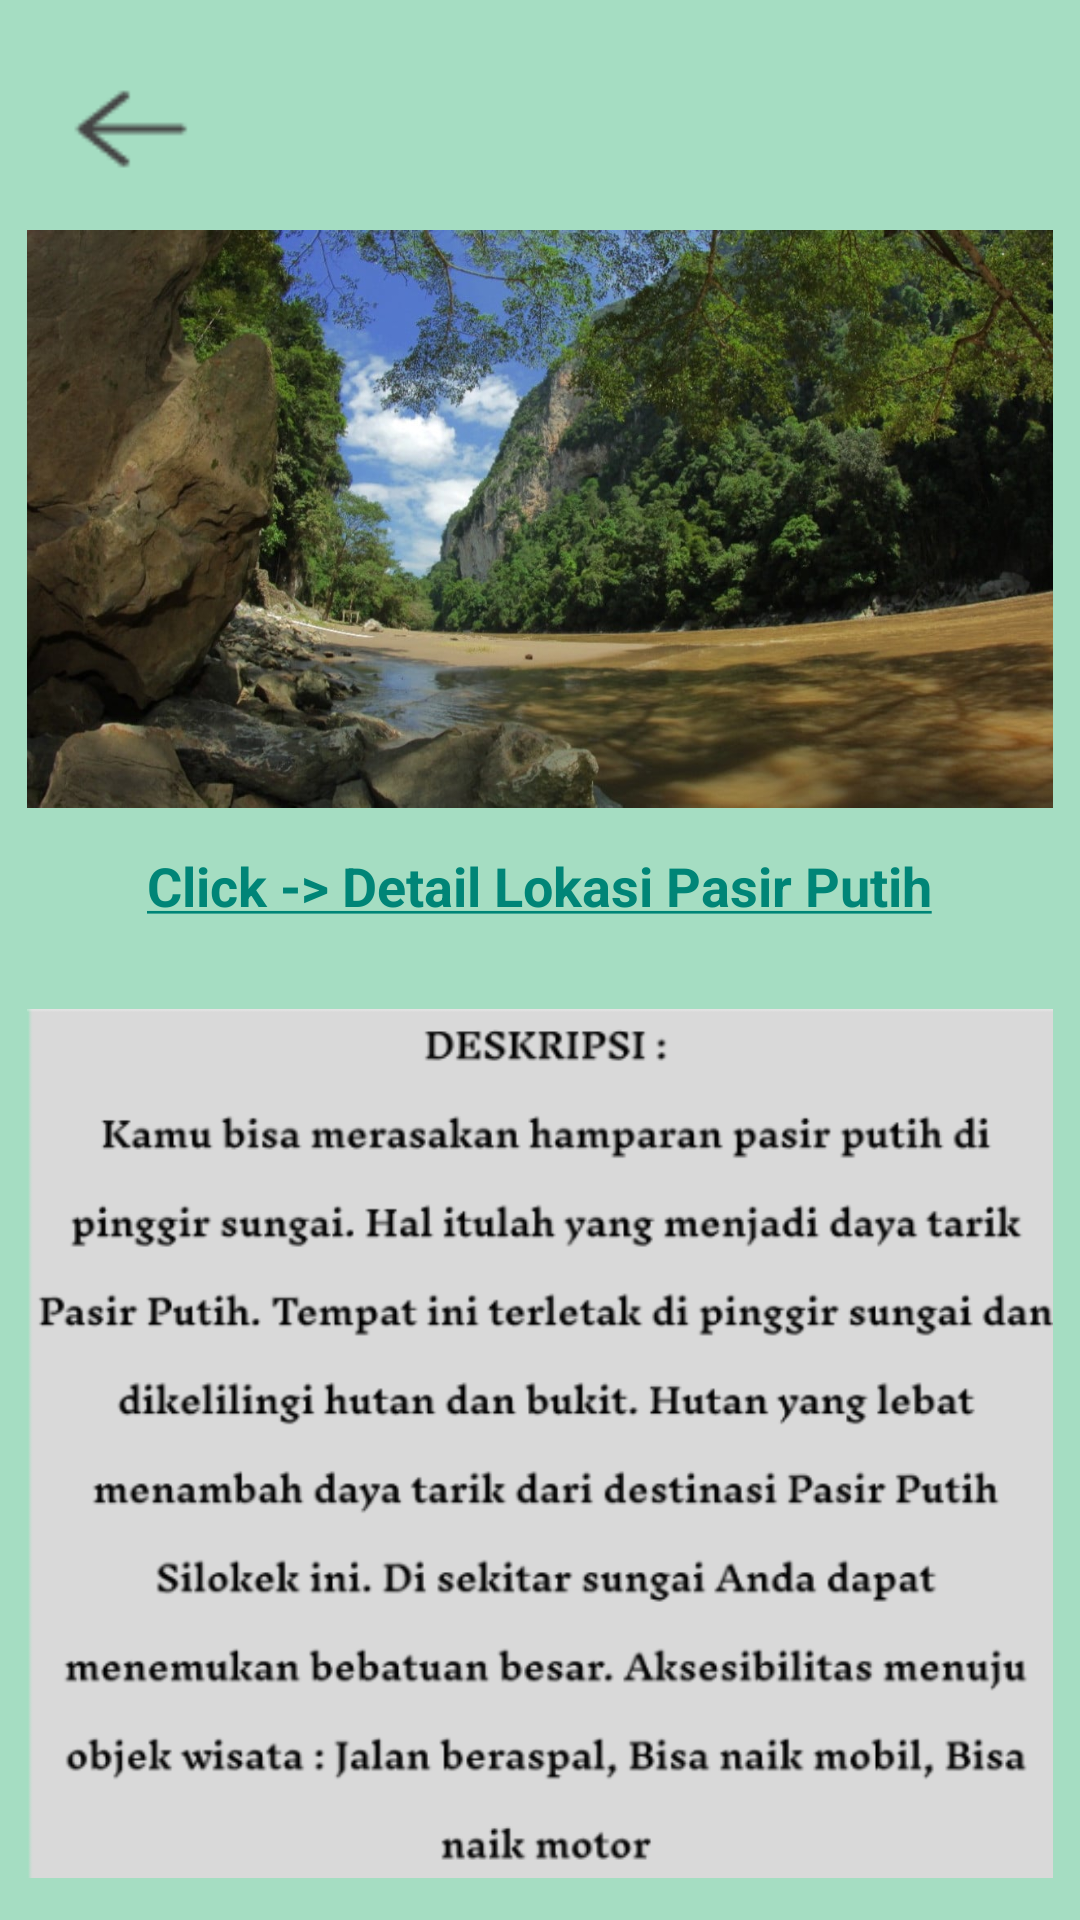

Icon bounding boxes for this 1080w x 1920h phone screenshot, format (x1, y1, x2, y2):
back: (75, 91, 187, 168)
